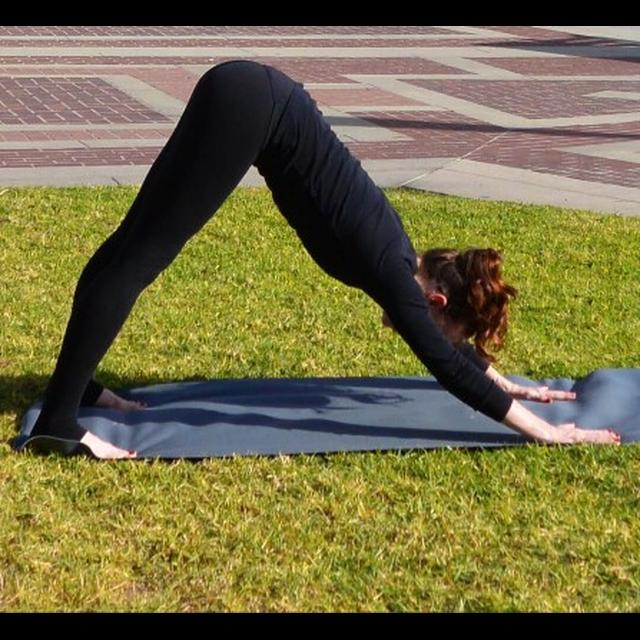Downward-Facing_Dog: (21, 55, 621, 453)
